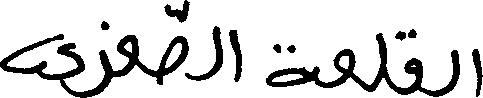X: (0, 29, 82, 97), (188, 0, 221, 85), (159, 0, 186, 89), (268, 39, 312, 91), (84, 16, 108, 97), (407, 24, 420, 97), (118, 30, 135, 81), (335, 44, 352, 91), (230, 25, 240, 86), (377, 28, 386, 91), (472, 44, 482, 97), (451, 45, 458, 95)
